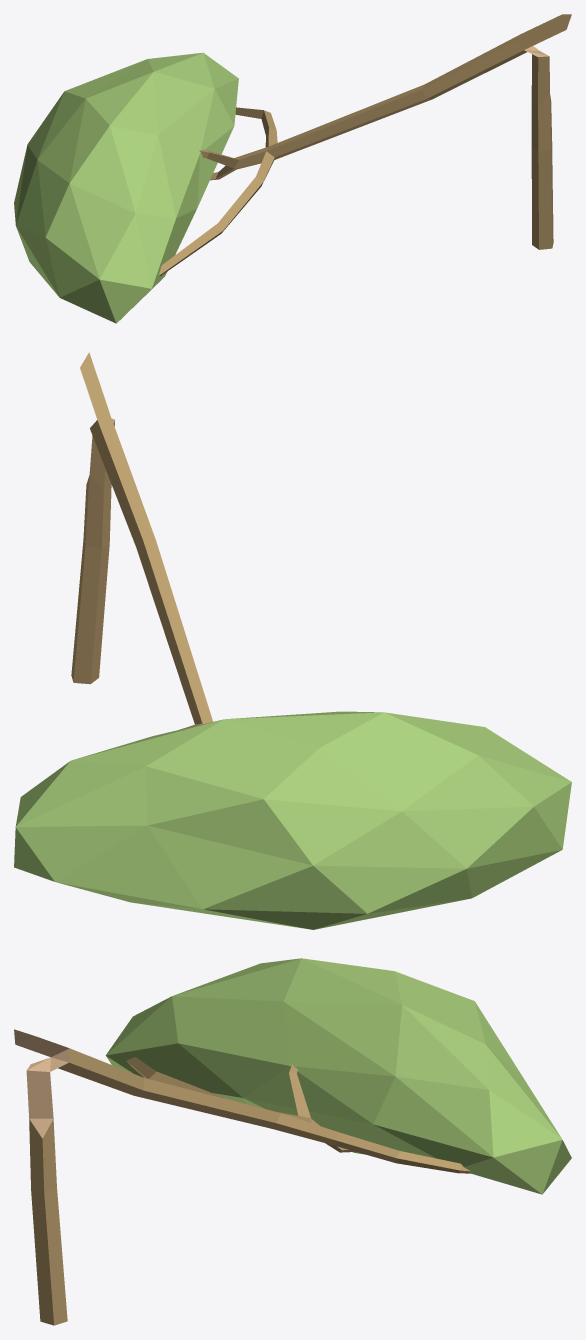
File: Acacia_Tree_crk_m_BT_01.fbx
The picture shows the model from 3 angles, top to bottom: view 1: azimuth 30°, elevation 25°; view 2: azimuth 150°, elevation 25°; view 3: azimuth 270°, elevation 25°; orthographic projection. The views are drawn at different scales.
Visible parts, largest first — view 1: Acacia_Tree_crk_m_BT_01; view 2: Acacia_Tree_crk_m_BT_01; view 3: Acacia_Tree_crk_m_BT_01.
Part boxes in pixels (x1=…): Acacia_Tree_crk_m_BT_01: x1=14, y1=14, x2=571, y2=323; Acacia_Tree_crk_m_BT_01: x1=14, y1=352, x2=571, y2=929; Acacia_Tree_crk_m_BT_01: x1=14, y1=958, x2=571, y2=1325.
Bounding box in the file's own units: 703 × 369 × 621.
